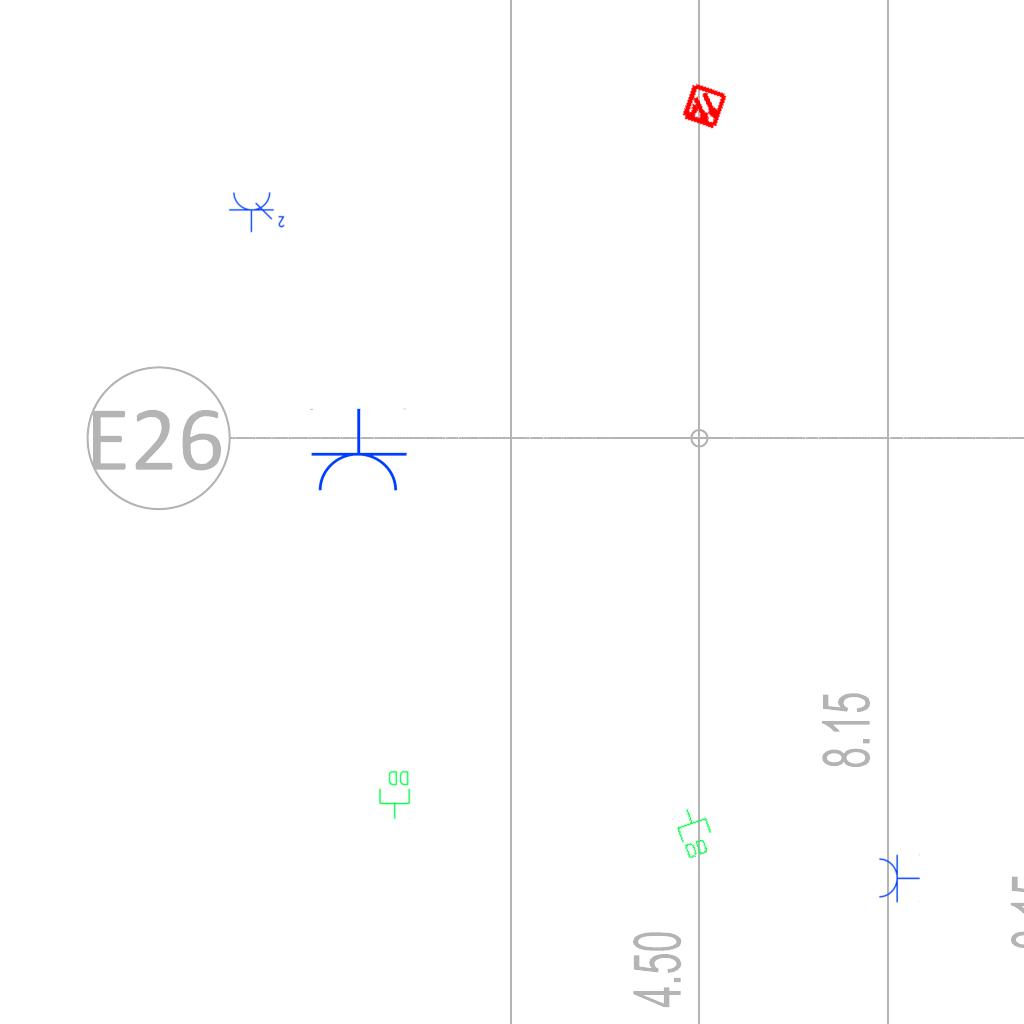Datenanschluss_zweifach: (670, 802, 719, 862), (378, 769, 412, 820)
OT_Multisensormelder_(Kombination_RMO_WMD): (668, 71, 740, 143)
Schukosteckdose_einfach: (308, 408, 408, 495), (877, 853, 920, 903)
Schukosteckdose_mehrfach: (228, 189, 288, 233)
